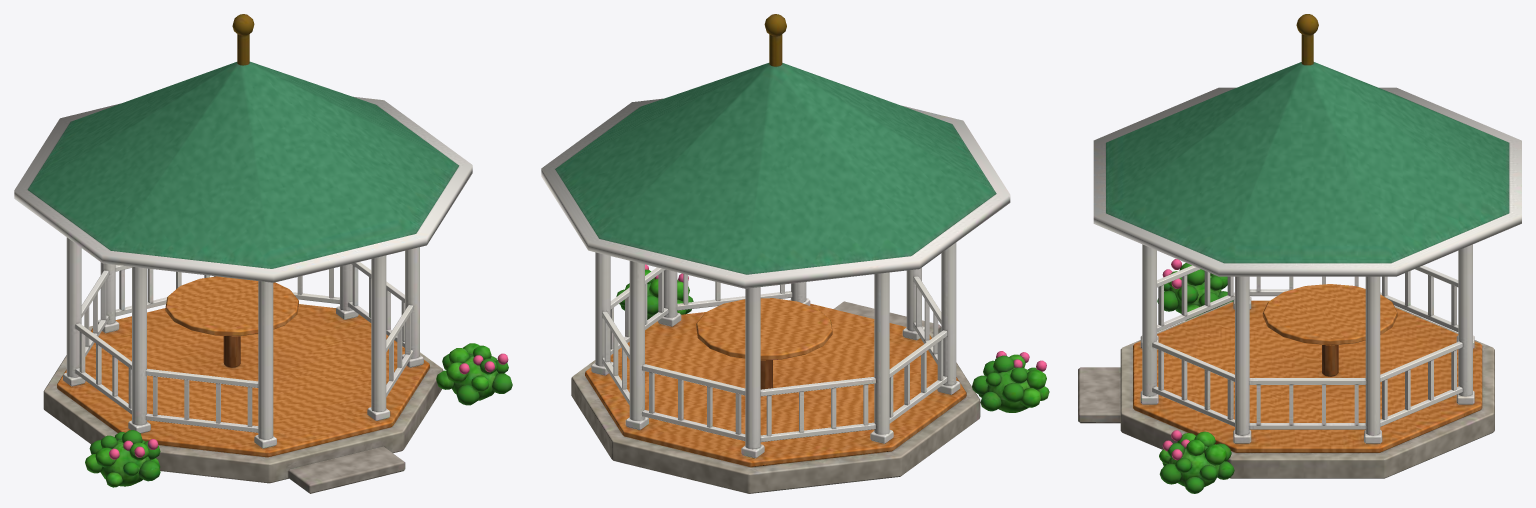
Rendered from gazebo.glb.
The picture shows the model from 3 angles, left to right: view 1: azimuth 30°, elevation 25°; view 2: azimuth 150°, elevation 25°; view 3: azimuth 270°, elevation 25°; orthographic projection. The views are drawn at different scales.
Visible parts, largest first — view 1: gazebo; view 2: gazebo; view 3: gazebo.
Boxes of the visible parts, x1,y1,x2,y2 form: gazebo: (14,14,512,493); gazebo: (541,14,1049,493); gazebo: (1078,14,1521,493).
Bounding box in the file's own units: 2.14 × 1.89 × 1.97.
1 material, 1 textured.
